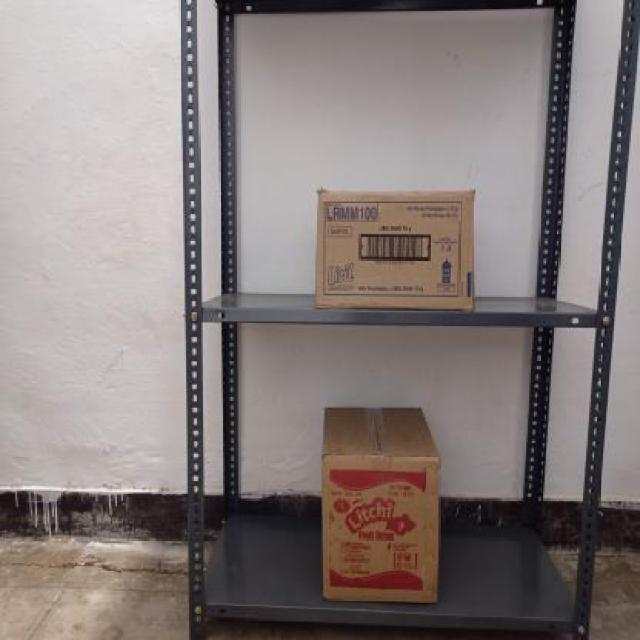box: (314, 189, 476, 309), (323, 452, 437, 600)
